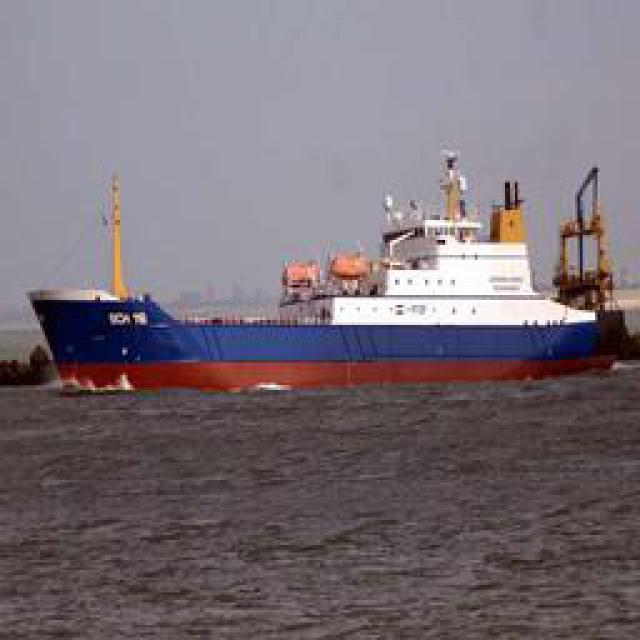Ship: (34, 155, 629, 380)
